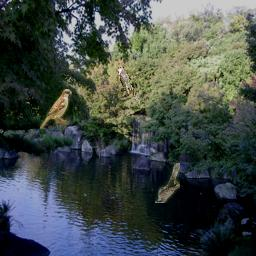Cuckoo: (155, 163, 180, 203), (116, 65, 140, 105)
Sparrow: (40, 89, 72, 129)
